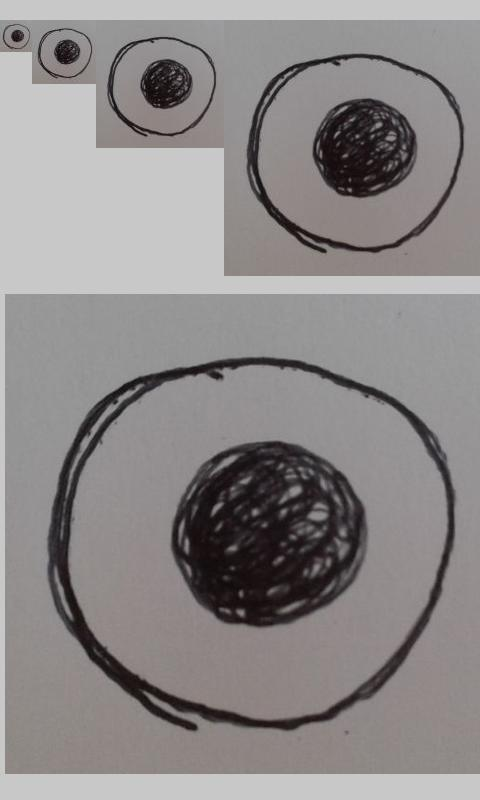radio_button: (45, 353, 458, 736), (245, 50, 468, 255), (106, 35, 217, 137), (36, 26, 93, 80), (2, 23, 31, 50)
